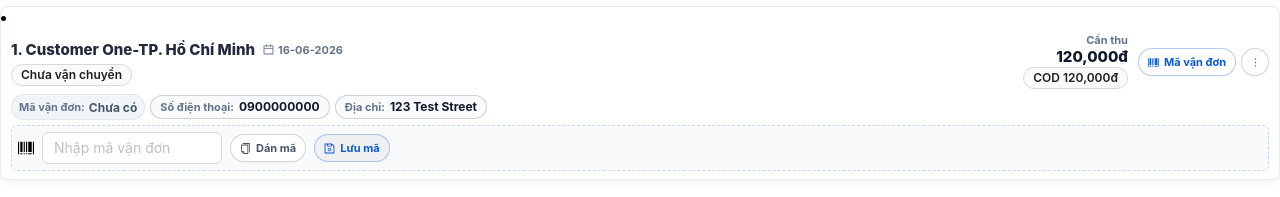
Test: reads clipboard only after explicit paste and populates the shipping-code field
The width and height of the screenshot is (1280, 197).
Click the button "Dán mã". click: click(268, 148)
box: [230,134,306,162]
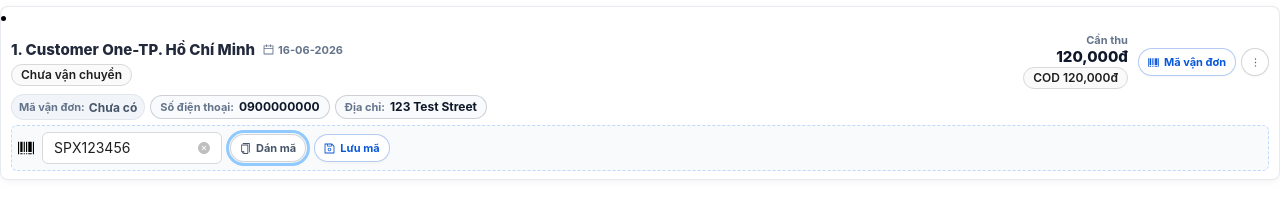
Now the field with placeholder "Nhập mã vận đơn" holds "SPX123456", box [54,137,194,159]
